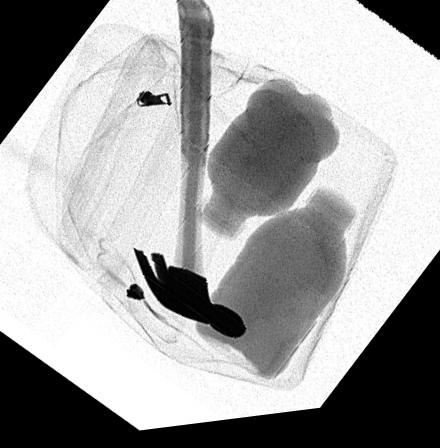Hammer: (132, 0, 246, 346)
